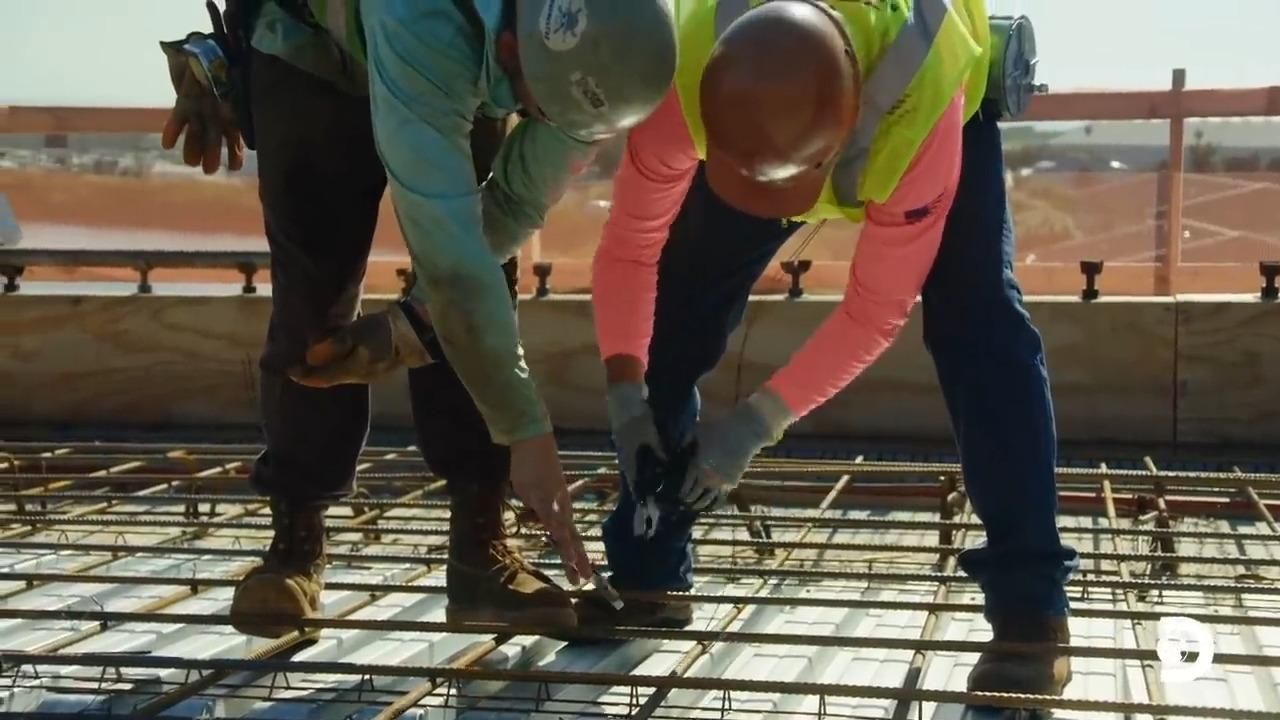Gloves: (299, 311, 429, 396), (673, 402, 754, 513), (612, 397, 671, 482)
Helmet: (697, 0, 863, 219), (513, 0, 677, 143)
Person: (586, 0, 1080, 702), (159, 0, 679, 640)
Safety Boot: (443, 542, 571, 638), (978, 583, 1065, 701), (222, 559, 319, 632), (583, 570, 684, 631)
Safety Vest: (689, 10, 944, 165), (295, 7, 550, 142)
bare-arms: (510, 427, 571, 523)
